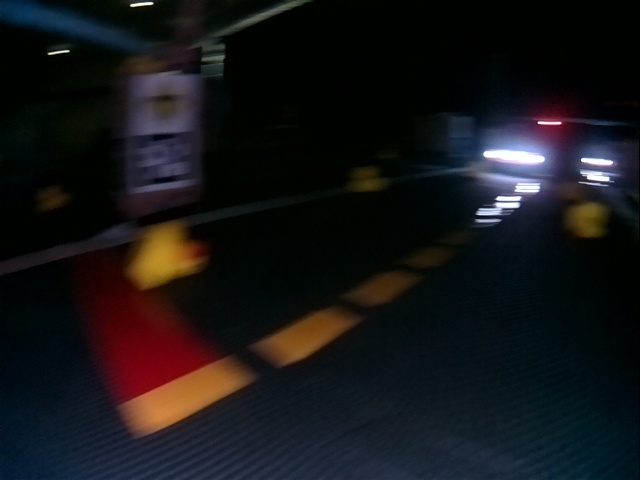Duckie: (130, 222, 205, 288), (569, 203, 607, 239), (349, 167, 386, 192), (37, 188, 66, 208)
Intersection sign: (136, 76, 196, 131)
QR code: (129, 137, 197, 187)
